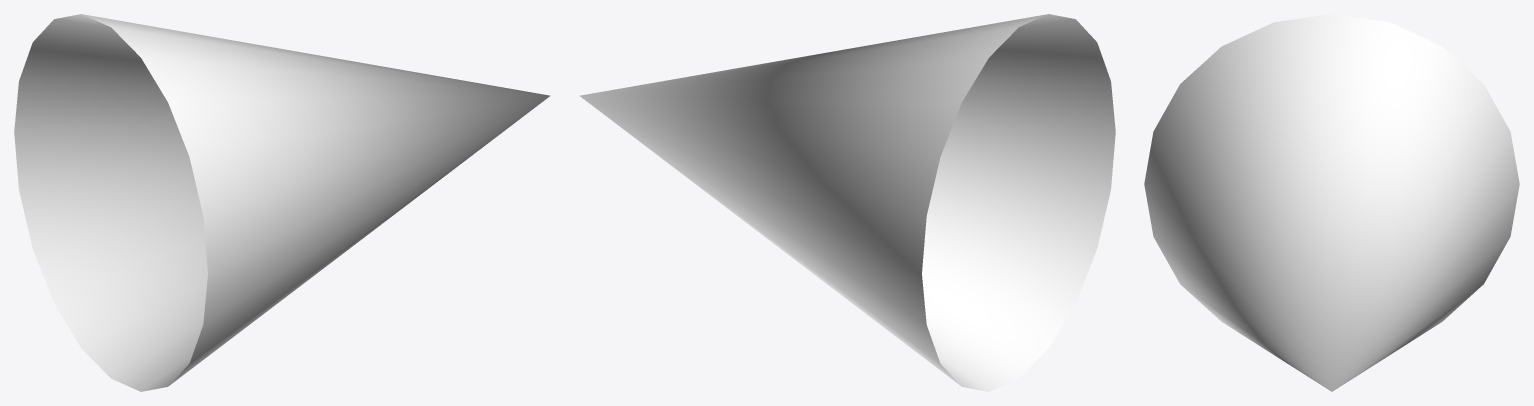
File: ship_light.fbx
The picture shows the model from 3 angles, left to right: view 1: azimuth 30°, elevation 25°; view 2: azimuth 150°, elevation 25°; view 3: azimuth 270°, elevation 25°; orthographic projection. The views are drawn at different scales.
Visible parts, largest first — view 1: ship_light; view 2: ship_light; view 3: ship_light.
Part boxes in pixels (x1,y1,x2,y2): ship_light: [14, 14, 550, 391]; ship_light: [579, 14, 1115, 391]; ship_light: [1144, 14, 1519, 391].
Size of the model in its own units: 17.76 by 13.56 by 13.56.
